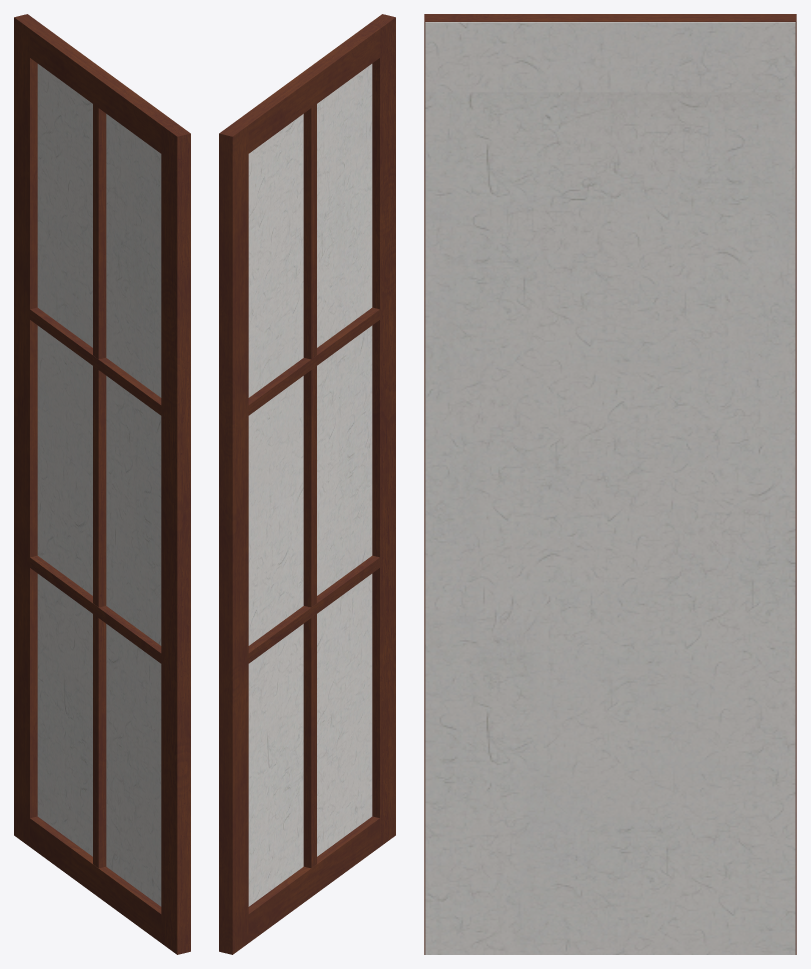
The model's file is SM_InnerDoor01G-b.fbx.
3 renders of one model, left to right at view 1: azimuth 30°, elevation 25°; view 2: azimuth 150°, elevation 25°; view 3: azimuth 270°, elevation 25°, orthographic. The views are drawn at different scales.
Parts seen in each view (by area): view 1: SM_InnerDoor01G-b; view 2: SM_InnerDoor01G-b; view 3: SM_InnerDoor01G-b.
Boxes of the visible parts, x1,y1,x2,y2 form: SM_InnerDoor01G-b: (14, 14, 190, 954); SM_InnerDoor01G-b: (219, 14, 395, 954); SM_InnerDoor01G-b: (424, 14, 796, 954).
Size of the model in its own units: 3.02 by 61 by 169.
